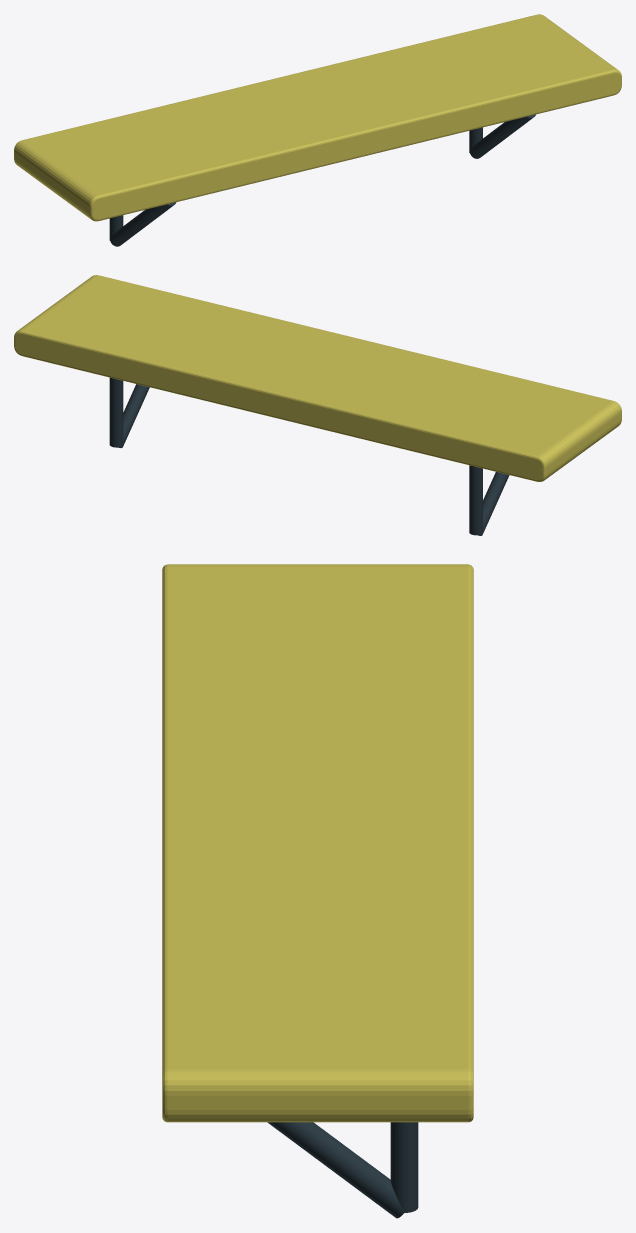
File: parts-shelf.glb
The picture shows the model from 3 angles, top to bottom: view 1: azimuth 30°, elevation 25°; view 2: azimuth 150°, elevation 25°; view 3: azimuth 270°, elevation 25°; orthographic projection. The views are drawn at different scales.
Parts seen in each view (by area): view 1: parts-shelf; view 2: parts-shelf; view 3: parts-shelf.
Part boxes in pixels (x1,y1,x2,y2): parts-shelf: [14, 14, 621, 246]; parts-shelf: [14, 275, 621, 535]; parts-shelf: [162, 564, 473, 1218].
Size of the model in its own units: 1.42 by 0.2849 by 0.36.
